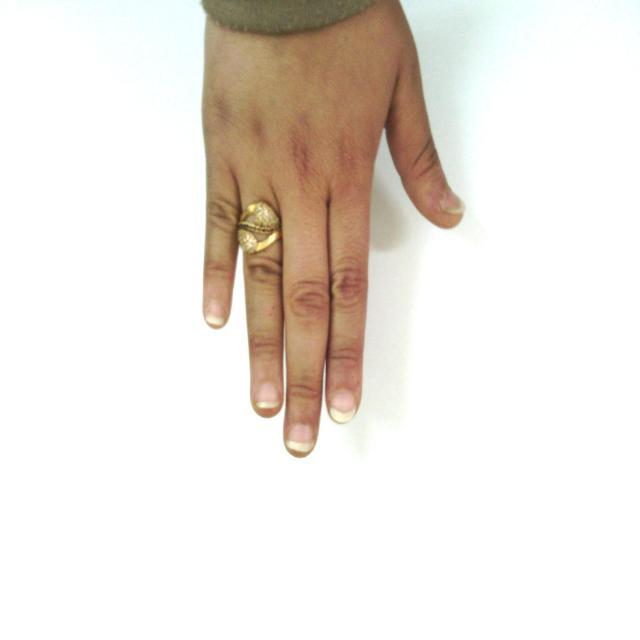Fingernail: (331, 389, 356, 423), (287, 424, 315, 452), (441, 190, 466, 214), (256, 383, 279, 408), (206, 302, 226, 326)
